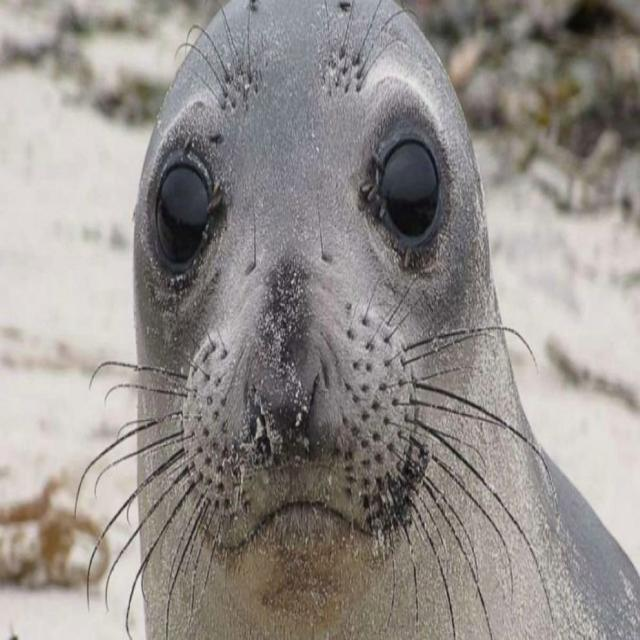seal: (77, 0, 640, 639)
